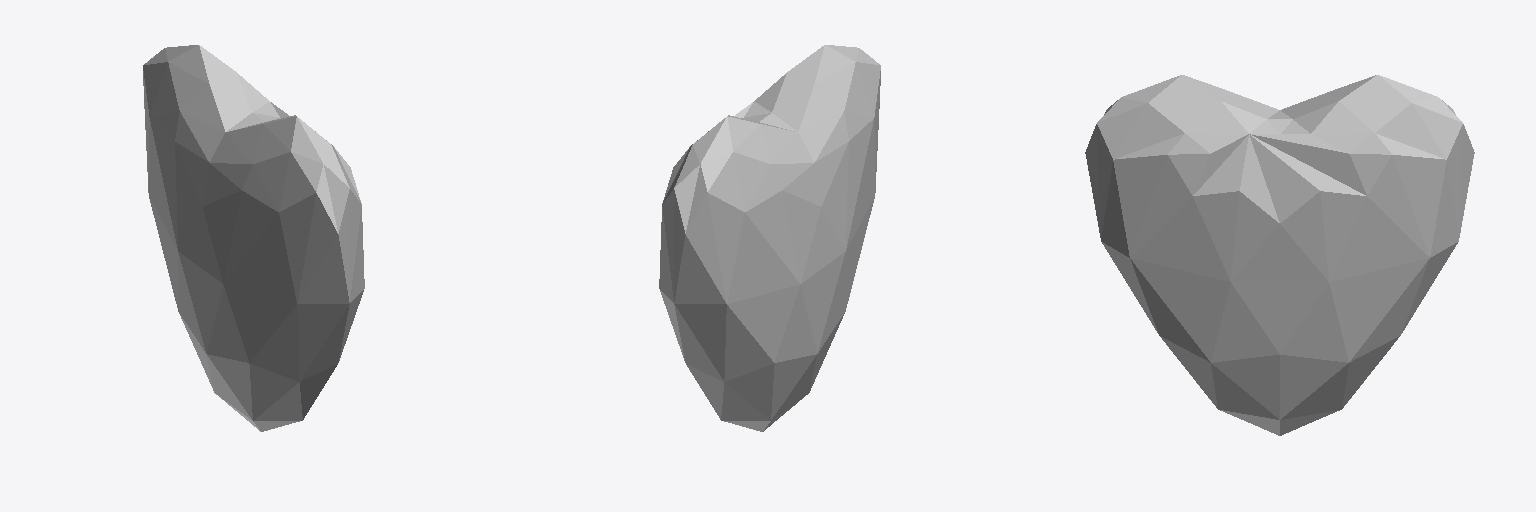
File: gem.obj
3 views of the same model, side by side, from view 1: azimuth 30°, elevation 25°; view 2: azimuth 150°, elevation 25°; view 3: azimuth 270°, elevation 25° (orthographic).
Visible parts, largest first — view 1: Icosphere_Icosphere.001; view 2: Icosphere_Icosphere.001; view 3: Icosphere_Icosphere.001.
Part boxes in pixels (x1,y1,x2,y2): Icosphere_Icosphere.001: (143, 45, 364, 431); Icosphere_Icosphere.001: (659, 45, 880, 431); Icosphere_Icosphere.001: (1085, 75, 1474, 435).
Size of the model in its own units: 0.5431 by 1.67 by 1.66.